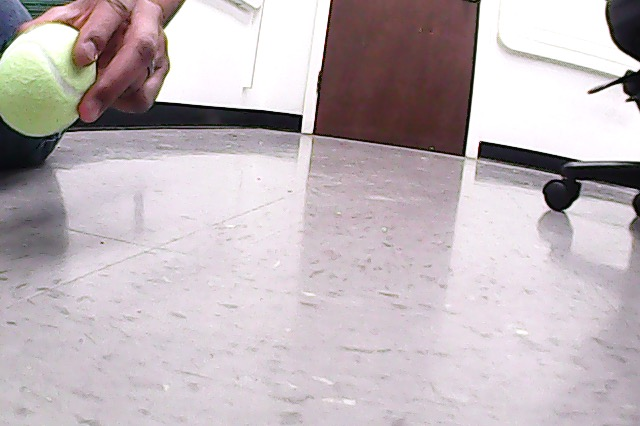ball: (2, 24, 97, 137)
